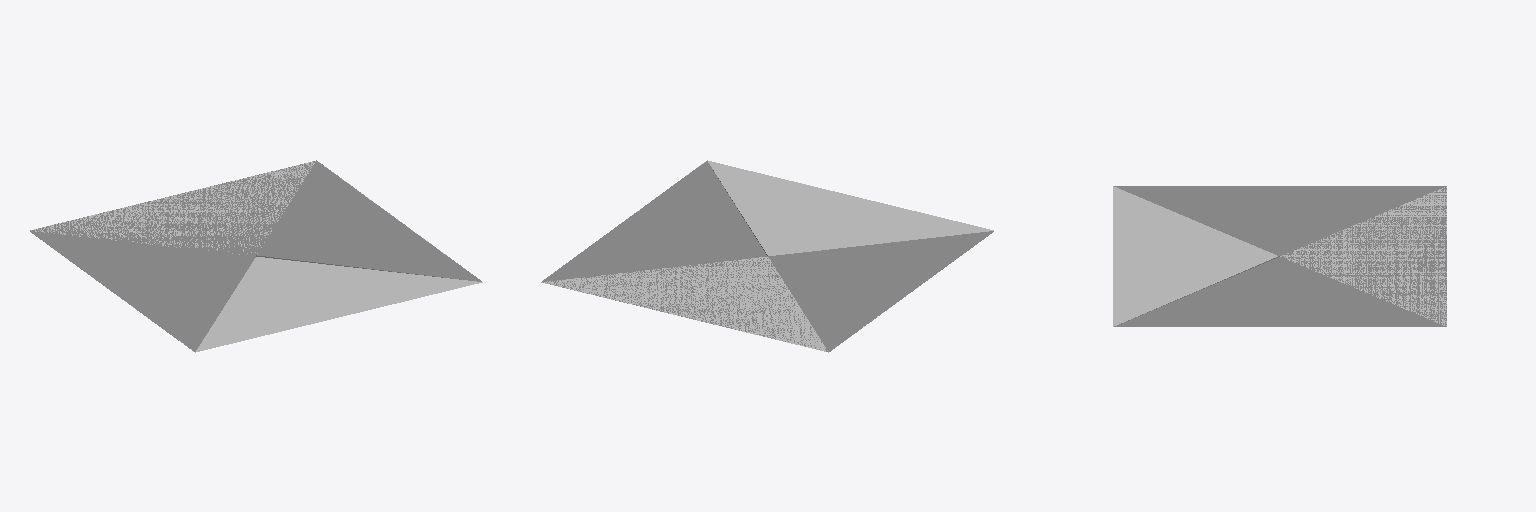
File: frame5.obj
3 views of the same model, side by side, from view 1: azimuth 30°, elevation 25°; view 2: azimuth 150°, elevation 25°; view 3: azimuth 270°, elevation 25° (orthographic).
Visible parts, largest first — view 1: Cube, ground; view 2: Cube, ground; view 3: Cube, ground.
Part boxes in pixels (x1,y1,x2,y2): Cube: (30,160,481,351); ground: (31,161,482,352); Cube: (542,161,993,351); ground: (541,160,993,352); Cube: (1114,186,1446,326); ground: (1113,186,1446,326).
Size of the model in its own units: 2000 by 7 by 2000.